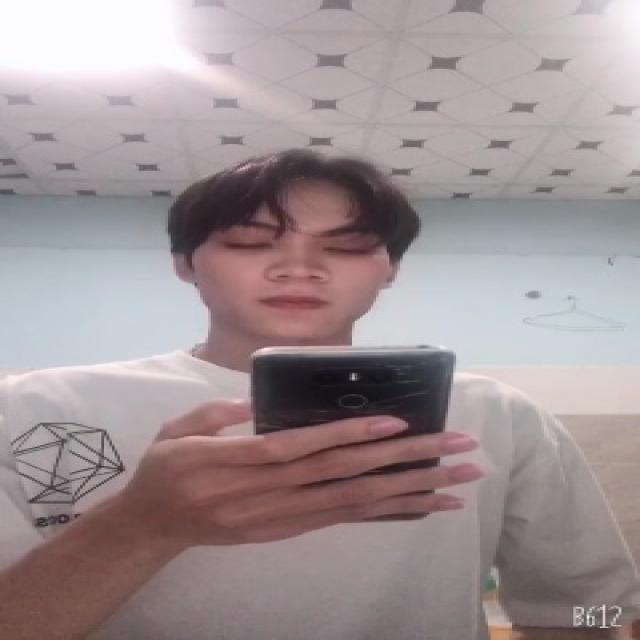Phone: (247, 340, 458, 529)
